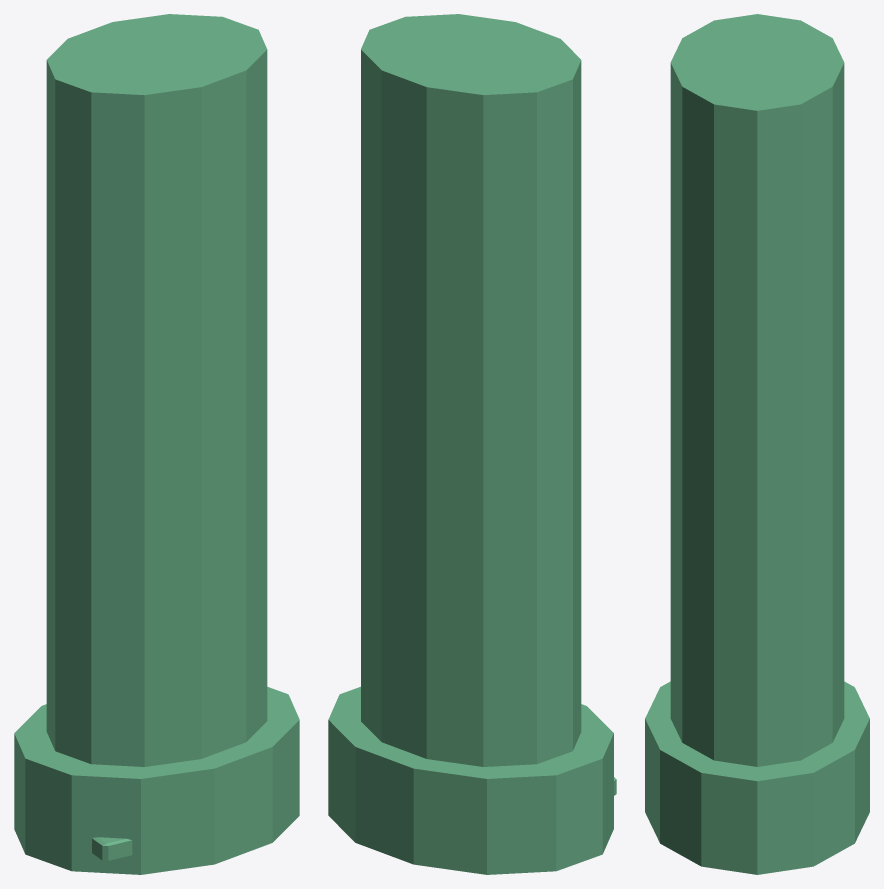
The model's file is b01_fold_down_parking_bollard.glb.
The picture shows the model from 3 angles, left to right: view 1: azimuth 30°, elevation 25°; view 2: azimuth 150°, elevation 25°; view 3: azimuth 270°, elevation 25°; orthographic projection. The views are drawn at different scales.
Visible parts, largest first — view 1: b01_fold_down_parking_bollard; view 2: b01_fold_down_parking_bollard; view 3: b01_fold_down_parking_bollard.
Part boxes in pixels (x1,y1,x2,y2): b01_fold_down_parking_bollard: [14, 14, 299, 874]; b01_fold_down_parking_bollard: [328, 14, 616, 874]; b01_fold_down_parking_bollard: [645, 14, 869, 874].
Size of the model in its own units: 0.33 by 0.92 by 0.25.
